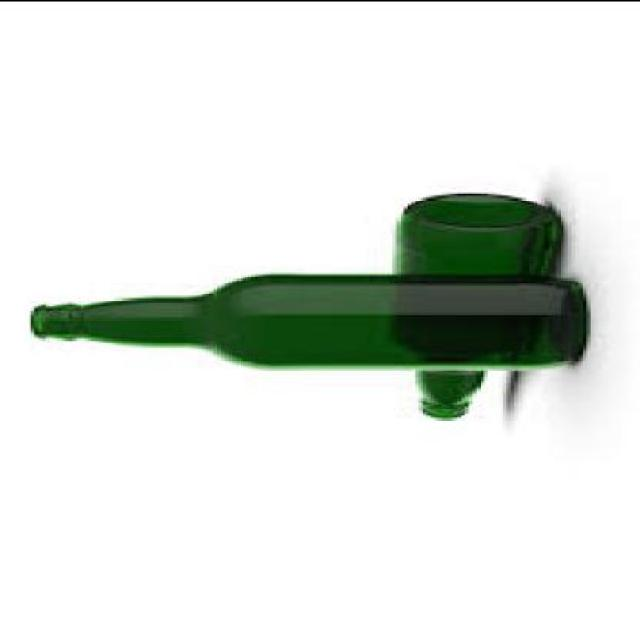GLASS: (27, 278, 587, 372), (392, 192, 560, 420)
